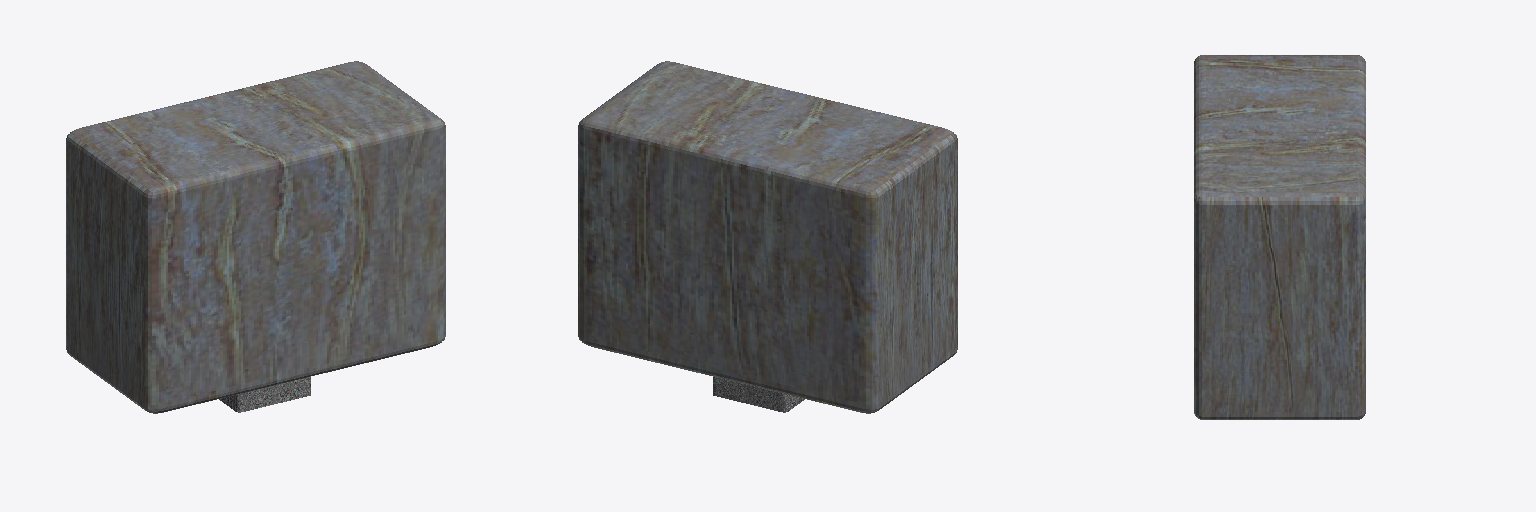
3 views of the same model, side by side, from view 1: azimuth 30°, elevation 25°; view 2: azimuth 150°, elevation 25°; view 3: azimuth 270°, elevation 25° (orthographic).
Visible parts, largest first — view 1: polySurface3; view 2: polySurface3; view 3: polySurface3.
Boxes of the visible parts, box(x1,y1,x2,y2) form: polySurface3: box(66, 61, 445, 413); polySurface3: box(578, 61, 957, 413); polySurface3: box(1194, 55, 1365, 419).
Size of the model in its own units: 50 by 41.98 by 24.94.
2 materials, 2 textured.